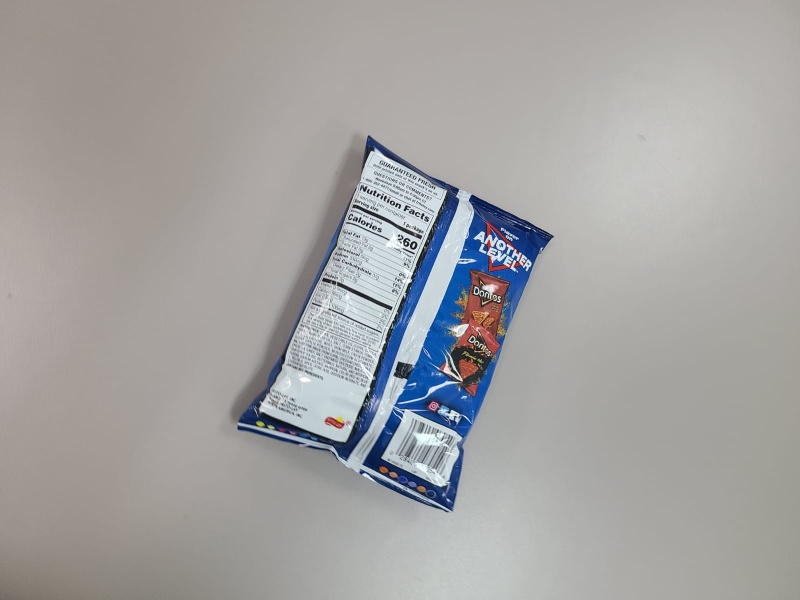doritos: (236, 135, 556, 514)
